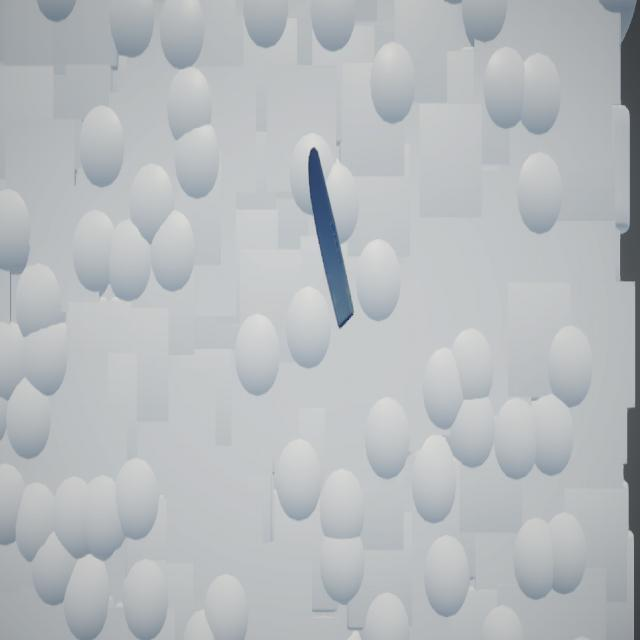top_knife: (310, 147, 356, 331)
